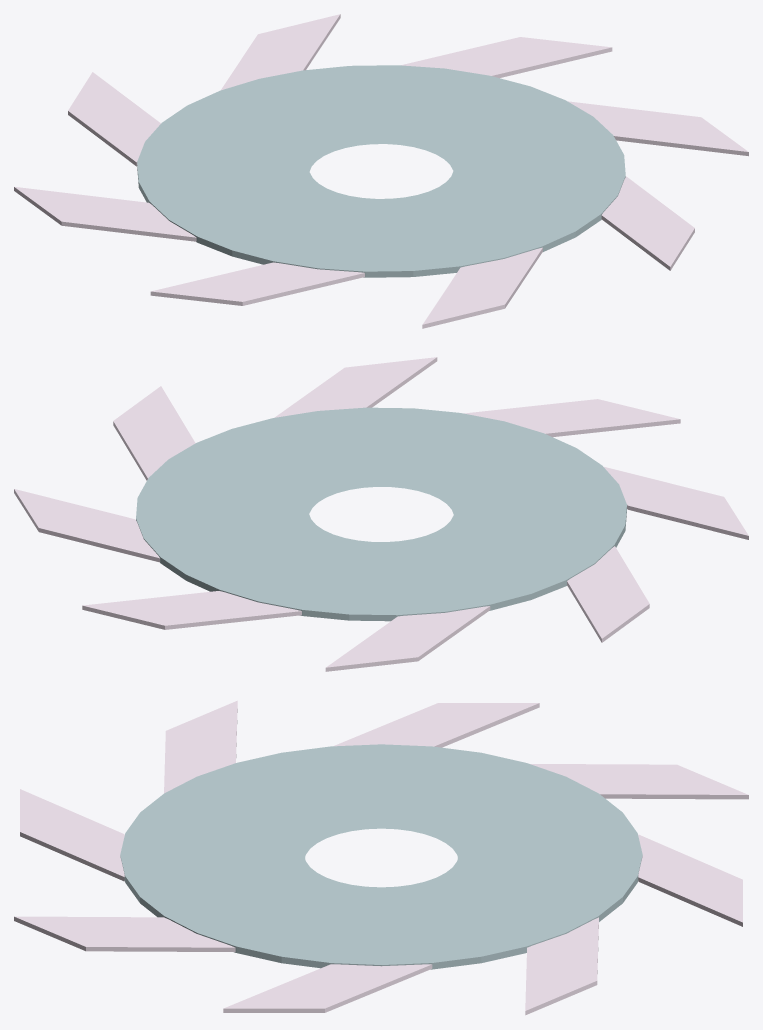
Rendered from Disk.fbx.
3 renders of one model, top to bottom at view 1: azimuth 30°, elevation 25°; view 2: azimuth 150°, elevation 25°; view 3: azimuth 270°, elevation 25°, orthographic. The views are drawn at different scales.
Visible parts, largest first — view 1: Cylinder, Cube; view 2: Cylinder, Cube; view 3: Cylinder, Cube.
Boxes of the visible parts, left/top/right/bottom form: Cylinder: left=137, top=65, right=625, bottom=277; Cube: left=14, top=14, right=748, bottom=328; Cylinder: left=136, top=407, right=626, bottom=621; Cube: left=14, top=357, right=748, bottom=671; Cylinder: left=120, top=744, right=642, bottom=969; Cube: left=14, top=700, right=748, bottom=1015.
Size of the model in its own units: 281 by 2.76 by 281.
